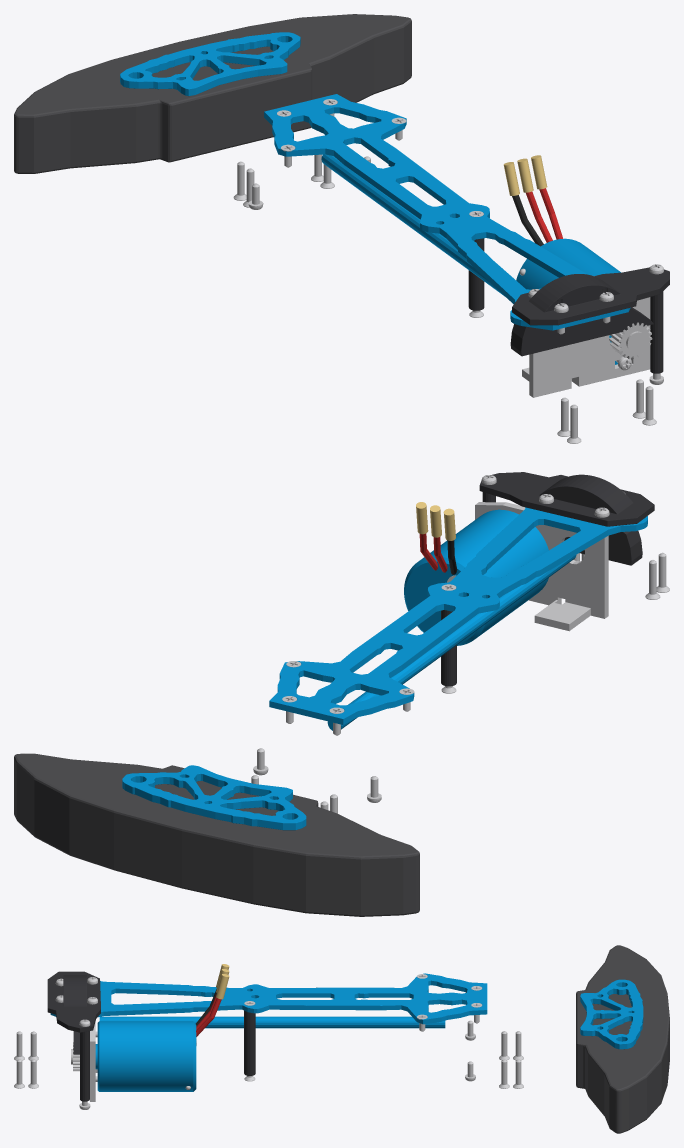
The model's file is hsp_D.glb.
3 views of the same model, one above another, from view 1: azimuth 30°, elevation 25°; view 2: azimuth 150°, elevation 25°; view 3: azimuth 270°, elevation 25° (orthographic). The views are drawn at different scales.
Parts seen in each view (by area): view 1: n0, n3, n13, n23, n24, n27, n22, n10, n28, n11, n25, n2; view 2: n0, n3, n13, n23, n22, n24, n27, n10; view 3: n0, n3, n22, n27, n23, n13, n11, n10, n2, n25, n24, n9 (+1 smaller).
Part boxes in pixels (box(x1,y1,x2,y2)): n0: box(14, 14, 411, 173); n3: box(264, 94, 630, 330); n13: box(510, 267, 669, 356); n23: box(120, 32, 300, 96); n24: box(522, 297, 650, 397); n27: box(321, 154, 504, 296); n22: box(516, 238, 620, 364); n10: box(557, 379, 656, 443); n28: box(609, 322, 652, 359); n11: box(233, 154, 334, 207); n25: box(650, 291, 663, 373); n2: box(468, 238, 484, 310); n0: box(14, 753, 419, 916); n3: box(269, 507, 647, 724); n13: box(479, 472, 654, 565); n23: box(122, 765, 306, 830); n22: box(404, 509, 548, 645); n24: box(475, 502, 608, 631); n27: box(327, 555, 576, 730); n10: box(573, 552, 669, 599); n0: box(576, 945, 669, 1133); n3: box(50, 973, 487, 1024); n22: box(95, 1021, 196, 1091); n27: box(99, 1016, 445, 1028); n23: box(580, 979, 643, 1049); n13: box(47, 971, 100, 1054); n11: box(499, 1031, 523, 1088); n10: box(14, 1031, 38, 1088); n2: box(244, 1010, 255, 1075); n25: box(80, 1031, 89, 1101); n24: box(90, 1021, 97, 1101); n9: box(55, 977, 97, 1026).
Bounding box in the file's own units: 0.1746 × 0.0696 × 0.3332.
